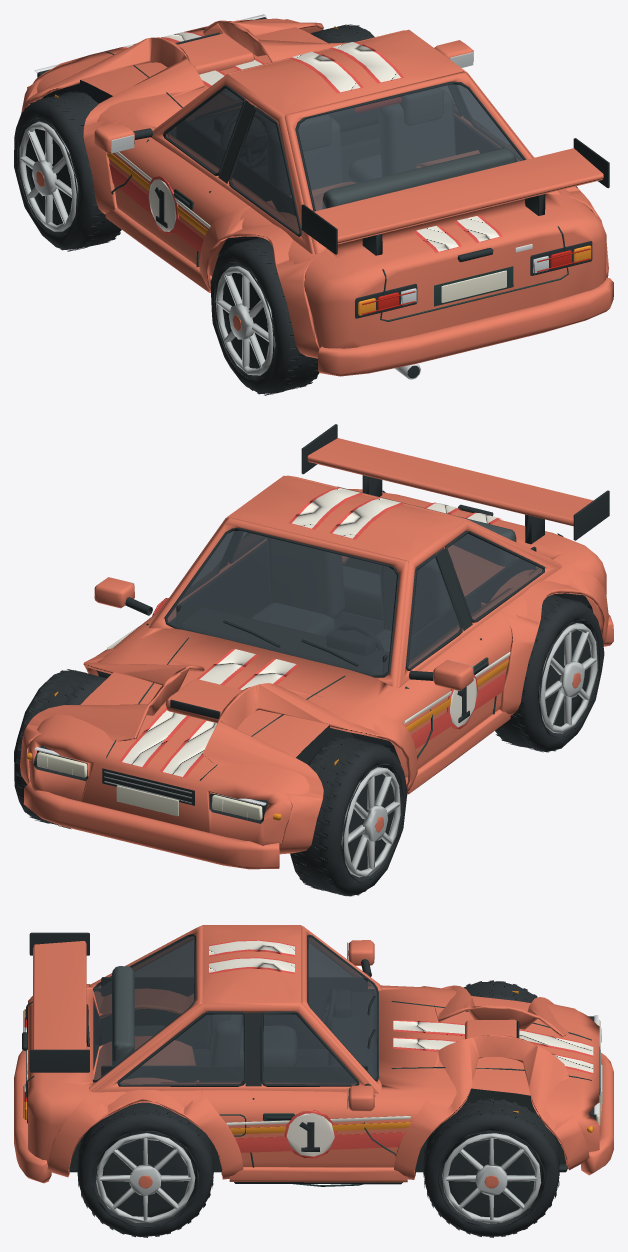
Rendered from zenith_lod2.fbx.
3 views of the same model, one above another, from view 1: azimuth 30°, elevation 25°; view 2: azimuth 150°, elevation 25°; view 3: azimuth 270°, elevation 25° (orthographic). The views are drawn at different scales.
Visible parts, largest first — view 1: Body, Wheel_FL_Mesh, Wheel_RL_Mesh, Wheel_FR_Mesh; view 2: Body, Wheel_FL_Mesh, Wheel_RL_Mesh, Wheel_FR_Mesh; view 3: Body, Wheel_FR_Mesh, Wheel_RR_Mesh, Wheel_FL_Mesh.
Boxes of the visible parts, box(x1,y1,x2,y2) form: Body: box(21, 14, 613, 379); Wheel_FL_Mesh: box(14, 91, 121, 251); Wheel_RL_Mesh: box(210, 237, 319, 395); Wheel_FR_Mesh: box(310, 24, 374, 43); Body: box(20, 424, 613, 869); Wheel_FL_Mesh: box(290, 736, 407, 896); Wheel_RL_Mesh: box(495, 594, 604, 752); Wheel_FR_Mesh: box(14, 669, 107, 829); Body: box(14, 925, 613, 1186); Wheel_FR_Mesh: box(423, 1098, 559, 1237); Wheel_RR_Mesh: box(77, 1102, 213, 1237); Wheel_FL_Mesh: box(463, 980, 537, 1002).
Size of the model in its own units: 236 by 151 by 378.
